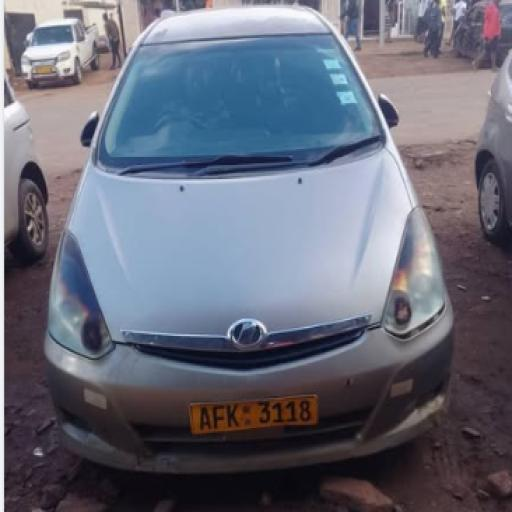number-plates: (187, 397, 319, 432)
